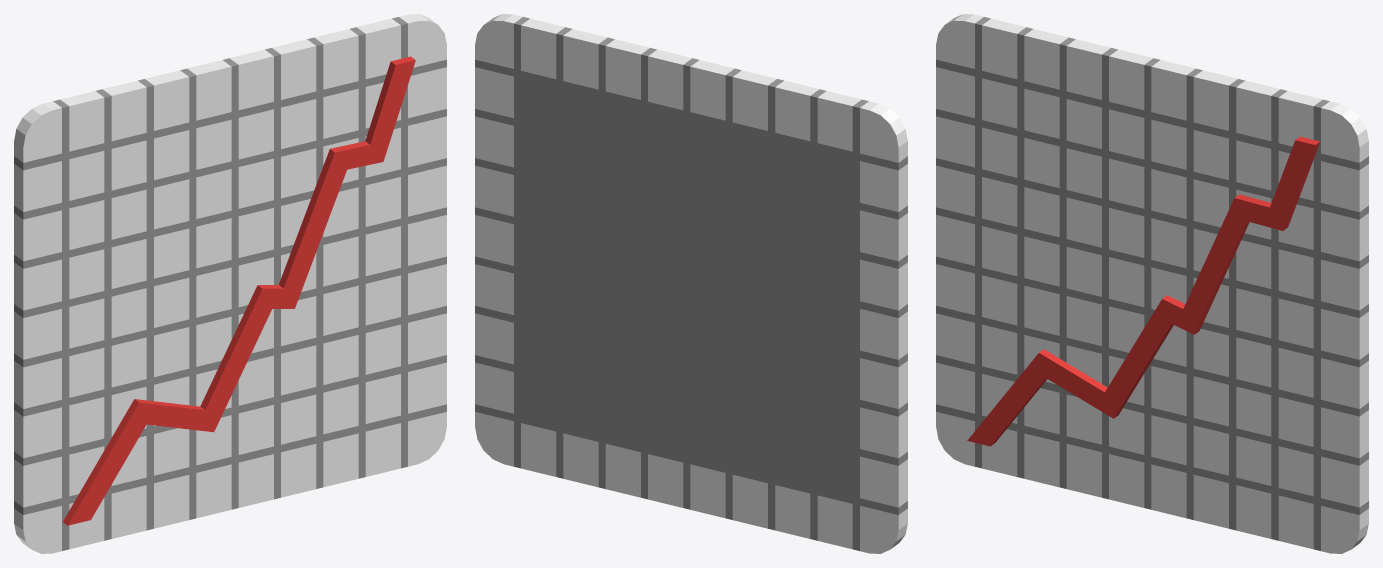
The model's file is chart_increasing.gltf.
3 views of the same model, side by side, from view 1: azimuth 30°, elevation 25°; view 2: azimuth 150°, elevation 25°; view 3: azimuth 330°, elevation 25° (orthographic).
Visible parts, largest first — view 1: Plane.339; view 2: Plane.339; view 3: Plane.339.
Boxes of the visible parts, box(x1,y1,x2,y2) form: Plane.339: box(14, 14, 446, 553); Plane.339: box(475, 14, 907, 553); Plane.339: box(936, 14, 1368, 553).
Size of the model in its own units: 2.2 by 2.2 by 0.1426.
1 material, 1 textured.
